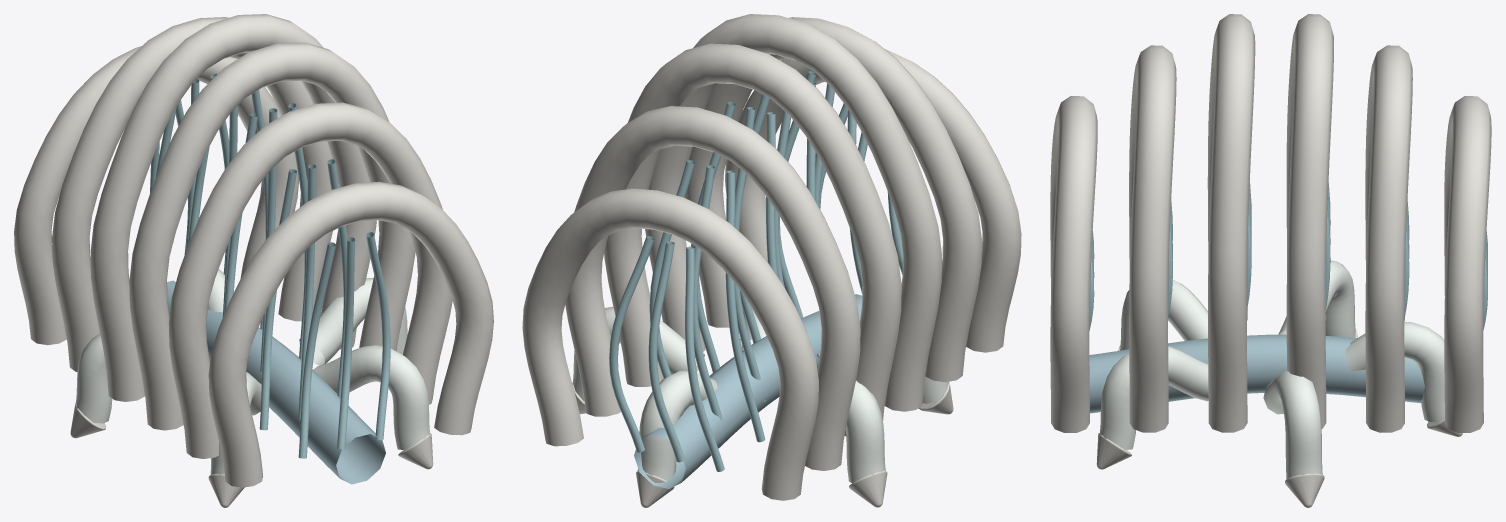
Rendered from bio_blind_harp_08_near.glb.
The picture shows the model from 3 angles, left to right: view 1: azimuth 30°, elevation 25°; view 2: azimuth 150°, elevation 25°; view 3: azimuth 270°, elevation 25°; orthographic projection. The views are drawn at different scales.
Visible parts, largest first — view 1: Open rib arch, Open rib arch.002, Open rib arch.001, Open rib arch.003, Open rib arch.004, Open rib arch.005, Low axial spine, Resonance filament, Crooked support.003, Resonance filament.003, Resonance filament.006, Crooked support.004 (+7 smaller); view 2: Open rib arch.005, Open rib arch.004, Open rib arch.003, Open rib arch.002, Open rib arch.001, Open rib arch, Low axial spine, Resonance filament.015, Resonance filament.012, Resonance filament.009, Crooked support, Crooked support.001 (+6 smaller); view 3: Open rib arch.002, Open rib arch.001, Open rib arch.004, Open rib arch.003, Open rib arch.005, Open rib arch, Low axial spine, Crooked support.004, Crooked support.003, Crooked support, Crooked support.002, Crooked support.001 (+3 smaller).
Part boxes in pixels (x1,y1,x2,y2): Open rib arch: [208, 181, 493, 487]; Open rib arch.002: [129, 42, 415, 430]; Open rib arch.001: [168, 102, 452, 458]; Open rib arch.003: [90, 14, 376, 401]; Open rib arch.004: [52, 17, 332, 371]; Open rib arch.005: [14, 46, 298, 345]; Low axial spine: [167, 280, 385, 484]; Resonance filament: [298, 232, 390, 458]; Crooked support.003: [313, 345, 431, 450]; Resonance filament.003: [259, 159, 347, 430]; Resonance filament.006: [224, 103, 307, 371]; Crooked support.004: [299, 278, 407, 365]; Open rib arch.005: [522, 188, 818, 500]; Open rib arch.004: [565, 106, 860, 470]; Open rib arch.003: [604, 43, 901, 436]; Open rib arch.002: [645, 14, 941, 411]; Open rib arch.001: [684, 17, 981, 382]; Open rib arch: [725, 49, 1021, 352]; Low axial spine: [634, 294, 862, 488]; Resonance filament.015: [609, 236, 724, 471]; Resonance filament.012: [649, 160, 765, 442]; Resonance filament.009: [691, 101, 777, 401]; Crooked support: [637, 370, 717, 480]; Crooked support.001: [845, 380, 885, 483]; Open rib arch.002: [1207, 14, 1255, 432]; Open rib arch.001: [1129, 45, 1176, 432]; Open rib arch.004: [1365, 45, 1412, 432]; Open rib arch.003: [1286, 14, 1333, 428]; Open rib arch.005: [1444, 96, 1491, 432]; Open rib arch: [1050, 96, 1097, 432]; Low axial spine: [1089, 334, 1424, 413]; Crooked support.004: [1263, 370, 1322, 481]; Crooked support.003: [1098, 345, 1208, 449]; Crooked support: [1345, 321, 1444, 421]; Crooked support.002: [1120, 280, 1207, 350]; Crooked support.001: [1278, 260, 1355, 337].
Bounding box in the file's own units: 1.91 × 2.26 × 2.27.
